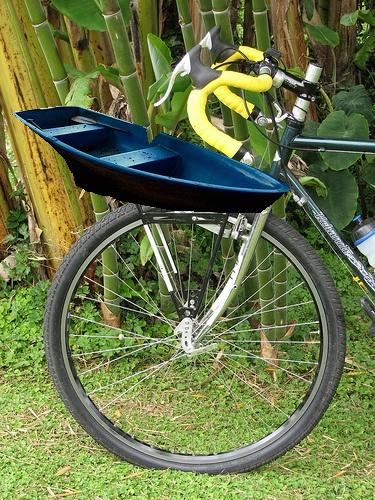tampered: (13, 107, 290, 213)
